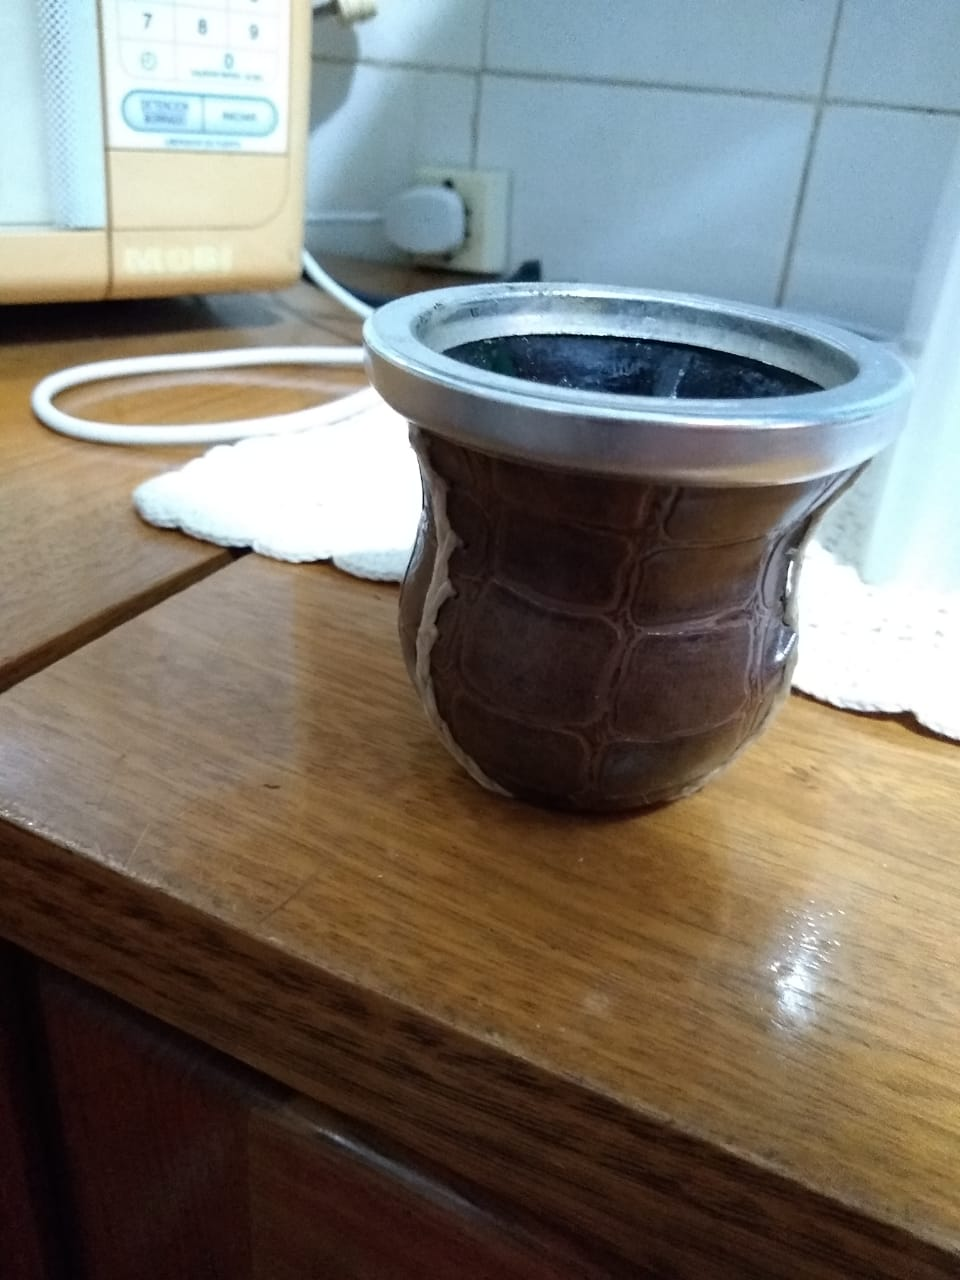mate: (357, 267, 921, 833)
plastico: (355, 265, 919, 830)
